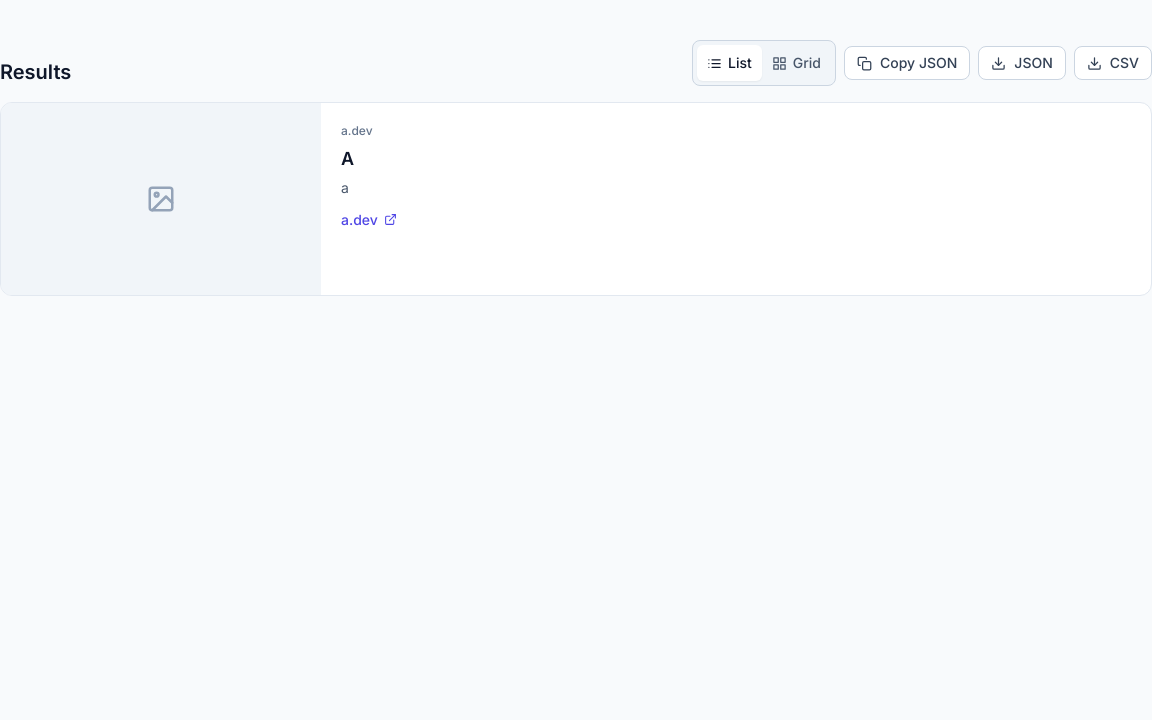
Test: ResultsSection › switches between detailed list and compact grid layouts
The width and height of the screenshot is (1152, 720).
Expected: the text "a" is shown, [341,179,349,196]
Click the button "Grid".
click(796, 63)  # box [762,45,831,81]
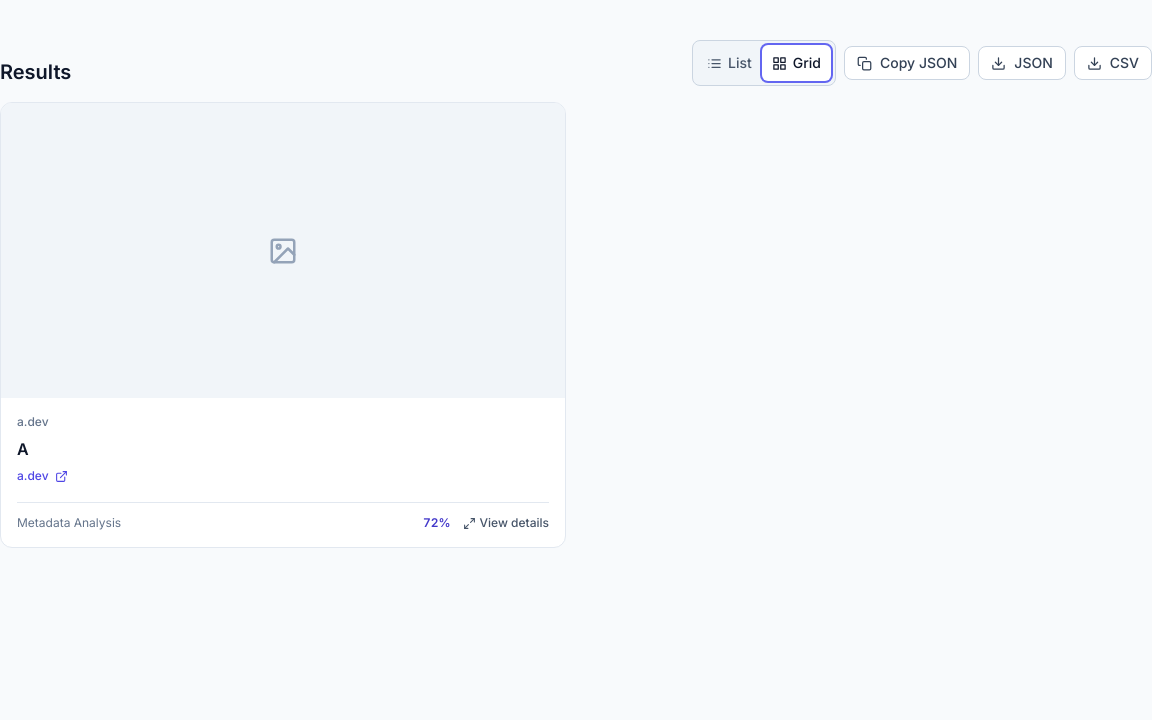
Expected: the text "Metadata Analysis" is shown, [17,515,121,531]
Expected: the text "72%" is shown, [423,515,450,531]
Click the button with aria-label "open full details for a".
click(69, 523)  # box [17,502,549,531]
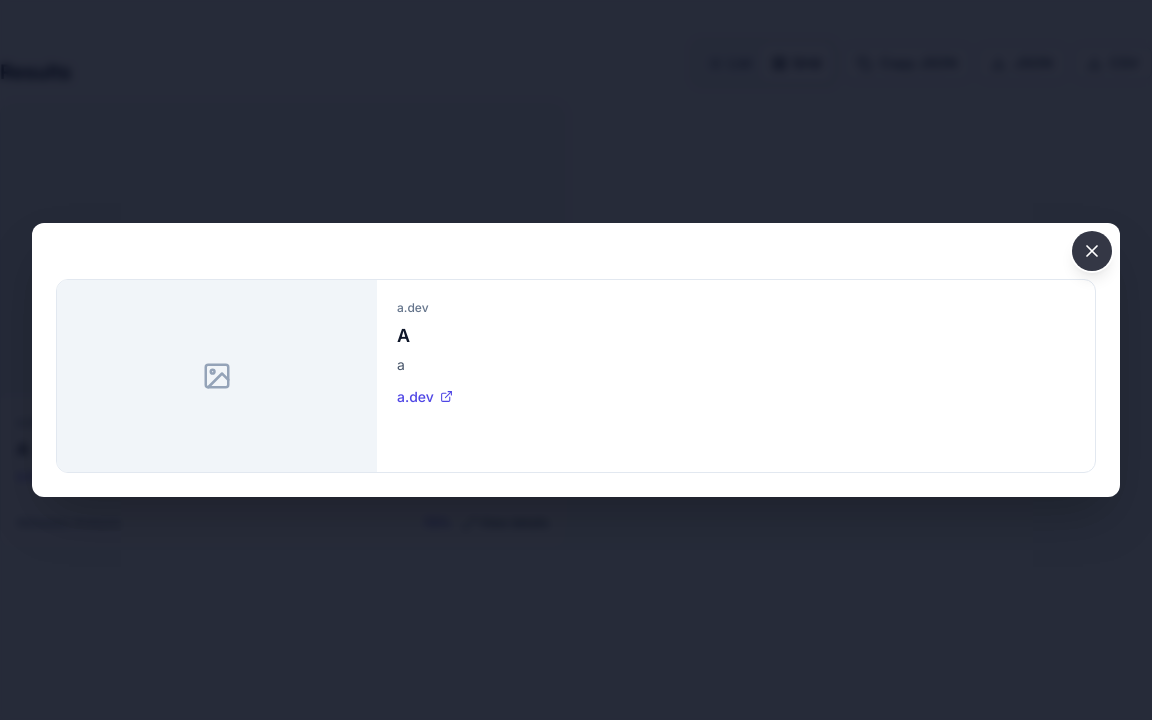
Expected: the dialog named "full details for a" is shown
Expected: the text "a" is shown, [397,356,405,373]
Press the mouse on the dialog named "full details for a" at (576,360), box [0,0,1151,719]
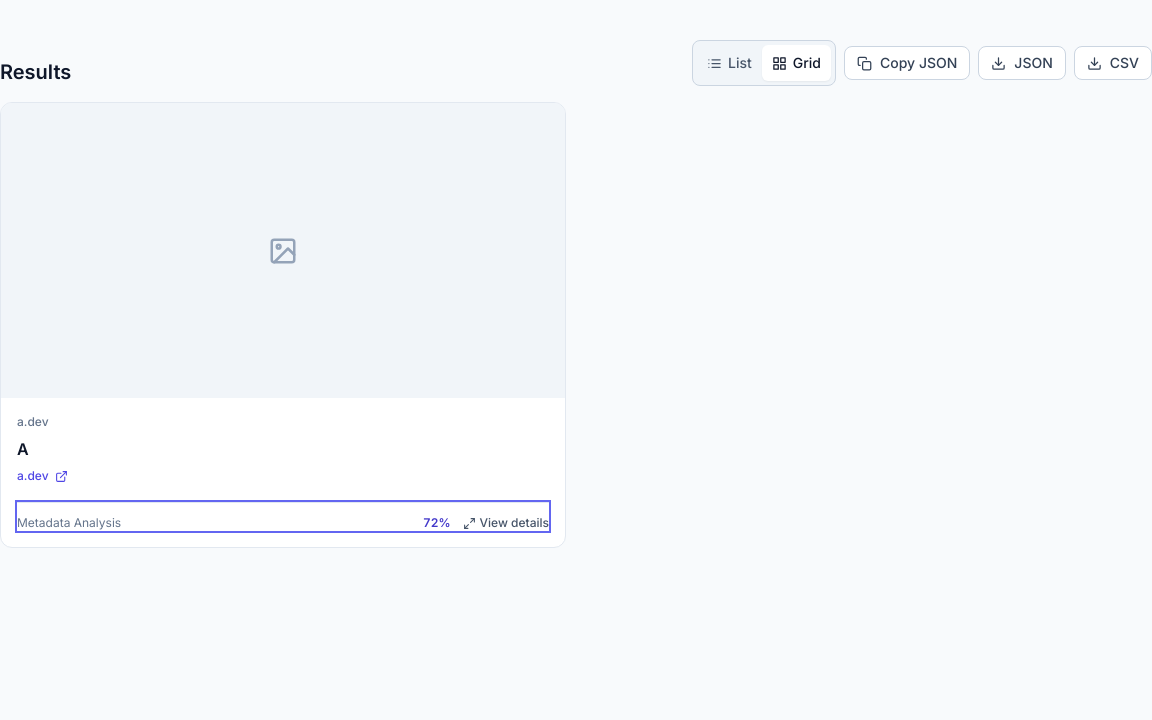
Expected: the dialog is gone
